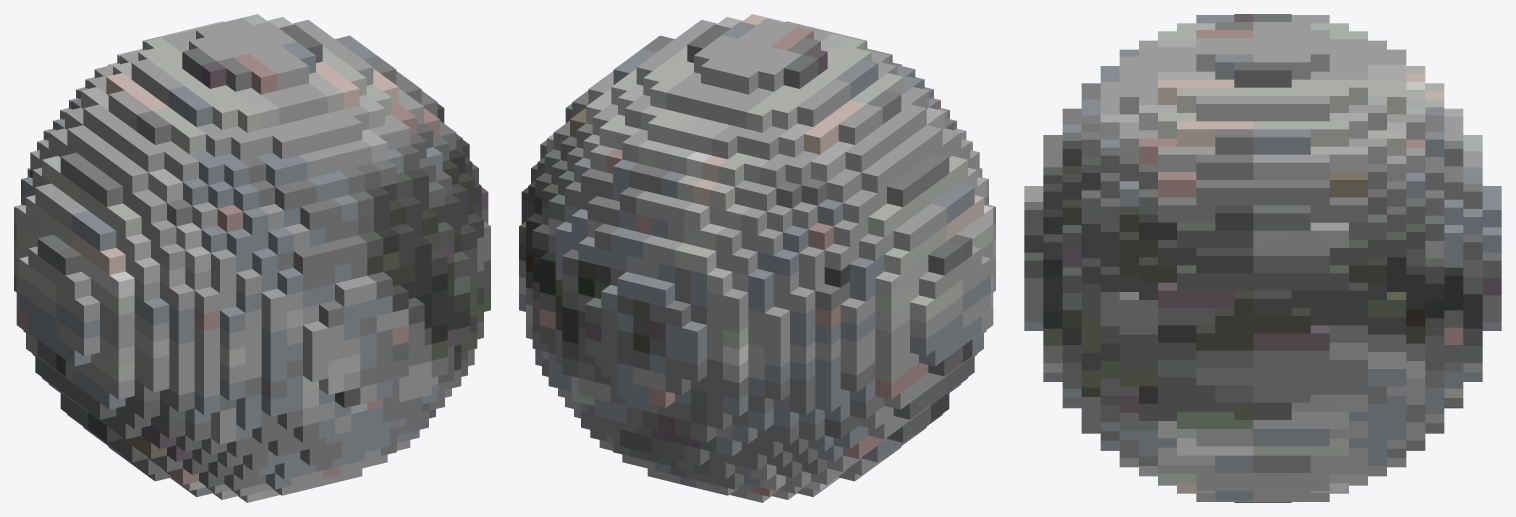
The model's file is moon.glb.
The picture shows the model from 3 angles, left to right: view 1: azimuth 30°, elevation 25°; view 2: azimuth 150°, elevation 25°; view 3: azimuth 270°, elevation 25°; orthographic projection. The views are drawn at different scales.
Parts seen in each view (by area): view 1: Voxel Moon; view 2: Voxel Moon; view 3: Voxel Moon.
Part boxes in pixels (x1=…): Voxel Moon: x1=14, y1=14, x2=490, y2=502; Voxel Moon: x1=519, y1=14, x2=995, y2=502; Voxel Moon: x1=1024, y1=14, x2=1501, y2=502.
Size of the model in its own units: 2.5 by 2.5 by 2.5.
1 material, 1 textured.
